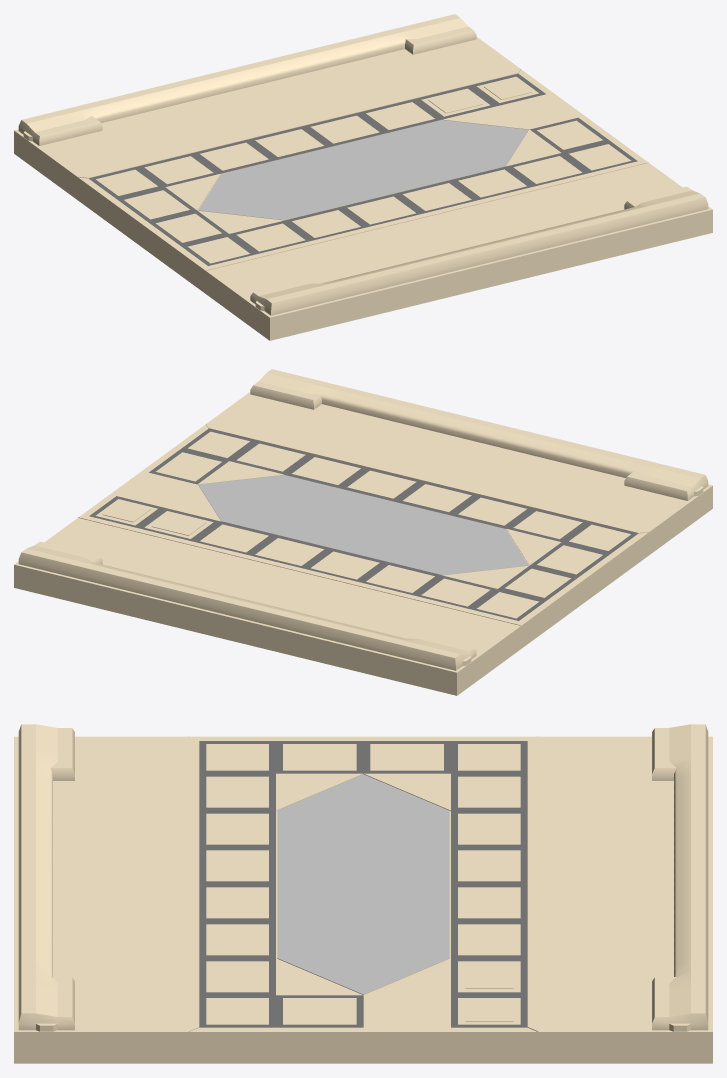
Rendered from SciFiWall_FBX.fbx.
The picture shows the model from 3 angles, top to bottom: view 1: azimuth 30°, elevation 25°; view 2: azimuth 150°, elevation 25°; view 3: azimuth 270°, elevation 25°; orthographic projection. The views are drawn at different scales.
Visible parts, largest first — view 1: SciFi_Wall; view 2: SciFi_Wall; view 3: SciFi_Wall.
Boxes of the visible parts, x1,y1,x2,y2 form: SciFi_Wall: (14, 14, 712, 340); SciFi_Wall: (14, 369, 712, 695); SciFi_Wall: (14, 724, 712, 1063).
Size of the model in its own units: 200 by 14.94 by 200.
